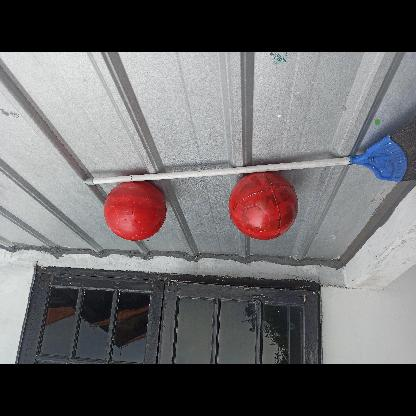red_ball: (228, 172, 298, 242), (104, 180, 165, 242)
